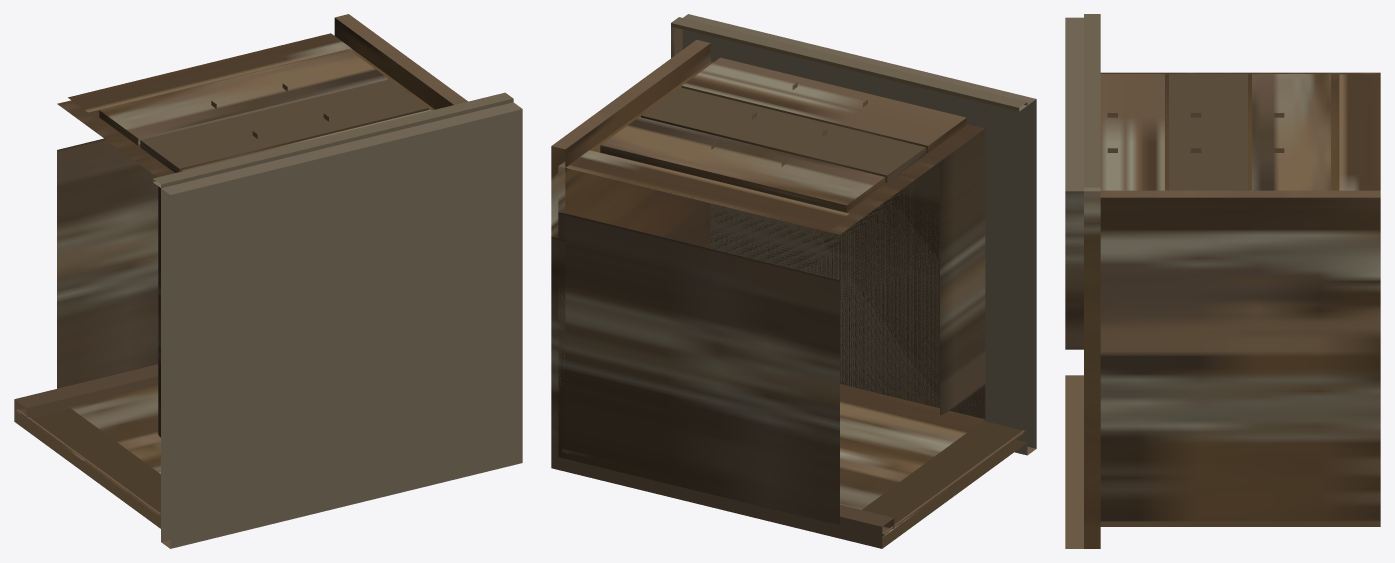
The model's file is section-6.obj.
The picture shows the model from 3 angles, left to right: view 1: azimuth 30°, elevation 25°; view 2: azimuth 150°, elevation 25°; view 3: azimuth 270°, elevation 25°; orthographic projection. The views are drawn at different scales.
Size of the model in its own units: 0.99 by 0.96 by 0.76.
